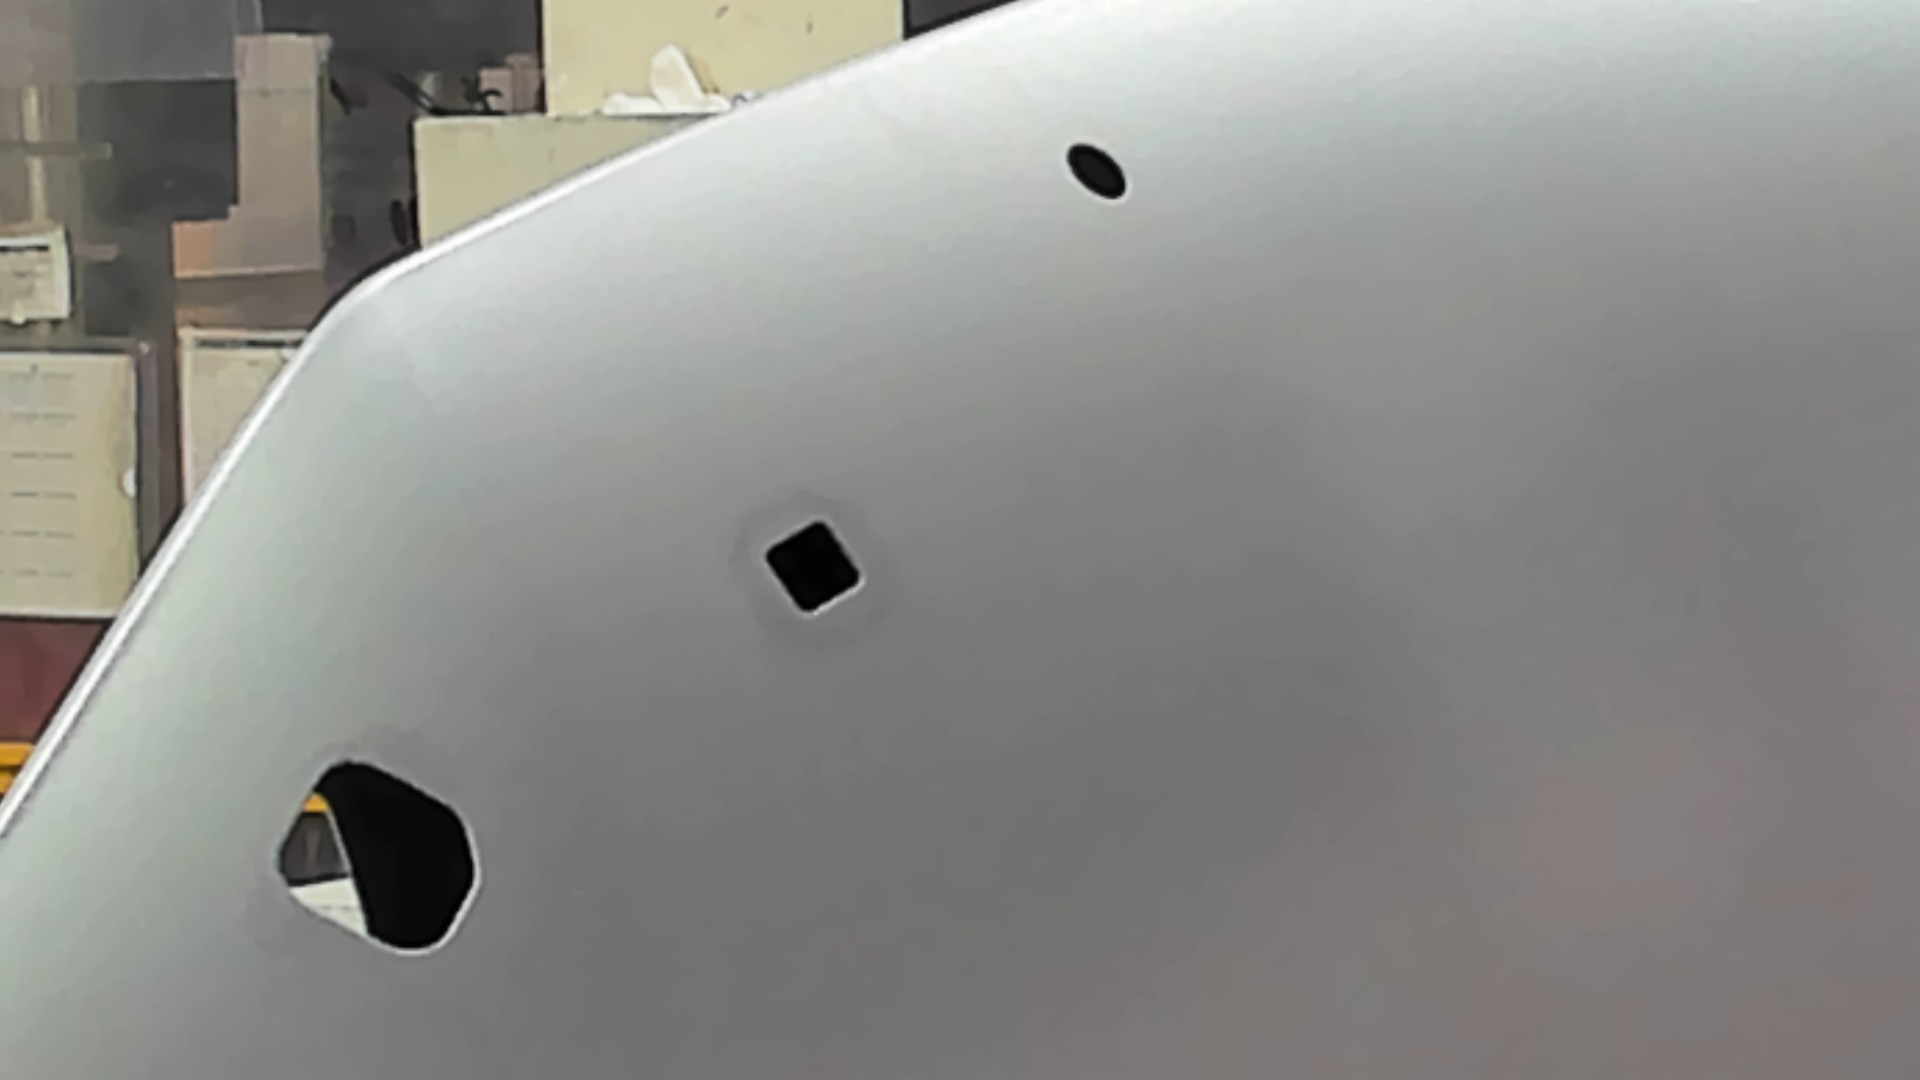chico: (1062, 138, 1134, 207)
grande: (276, 756, 484, 959)
mediano: (756, 516, 868, 622)
